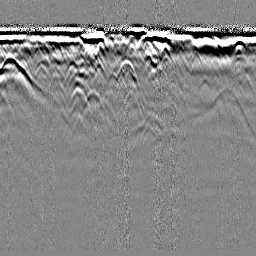cavity: (117, 56, 139, 83)
